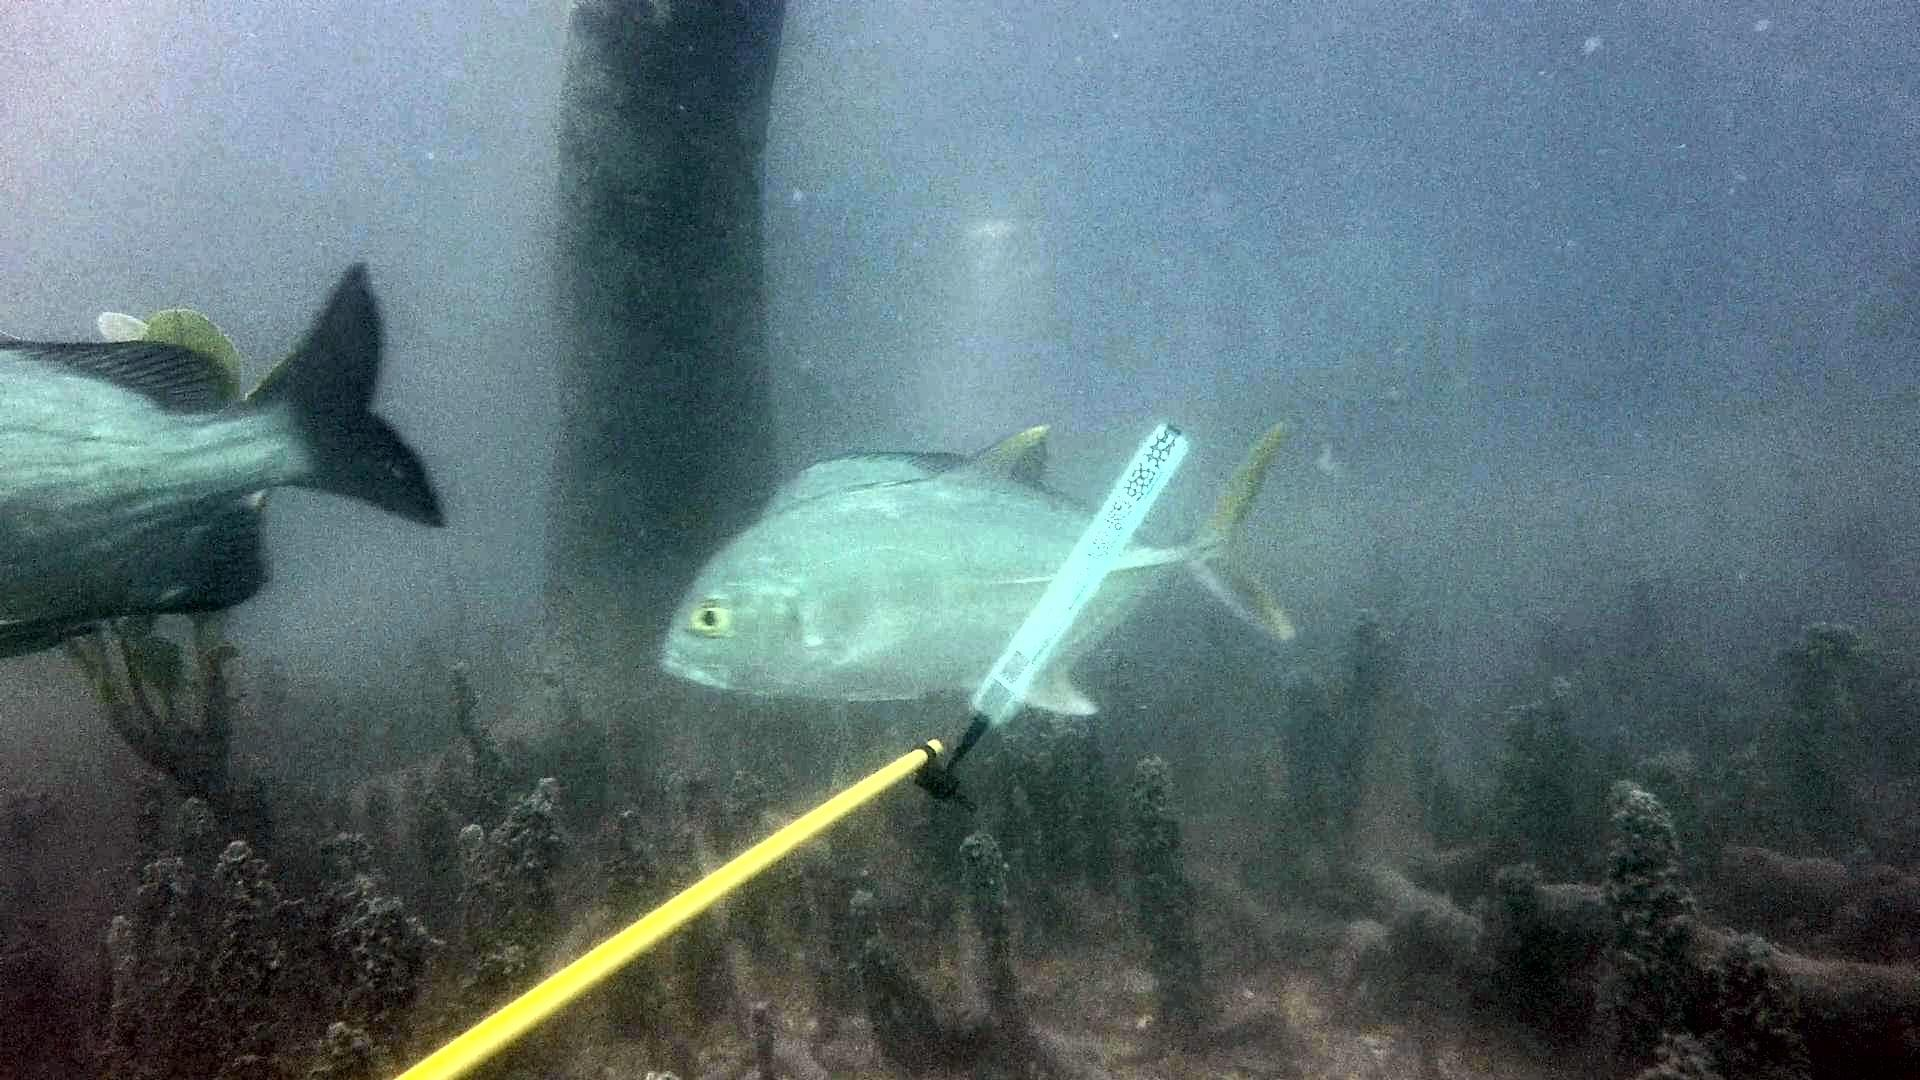acanthopagrus palmaris: (0, 246, 463, 678)
caranx: (646, 408, 1312, 730)
